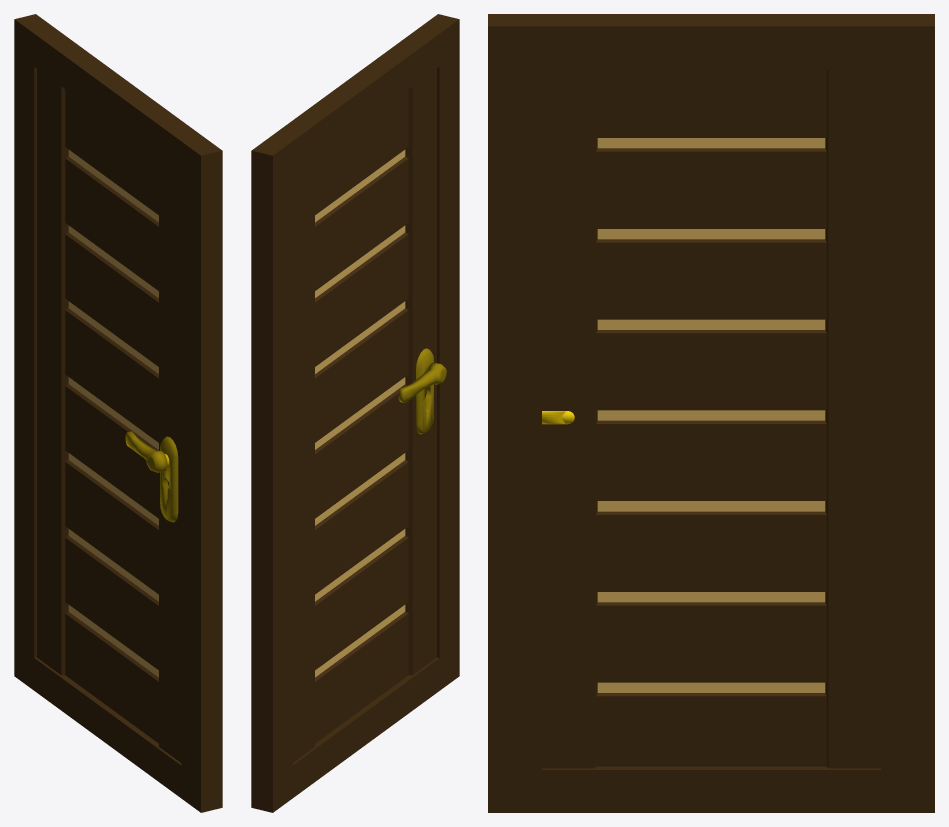
Rendered from Drzwi_v2.fbx.
3 views of the same model, side by side, from view 1: azimuth 30°, elevation 25°; view 2: azimuth 150°, elevation 25°; view 3: azimuth 270°, elevation 25° (orthographic). The views are drawn at different scales.
Parts seen in each view (by area): view 1: Framuga, Cube.001, Door, Cube.003, Sphere, Klamka; view 2: Framuga, Cube.001, Door, Cube.003, Sphere, Klamka; view 3: Cube.001, Framuga, Door, Cube.003.
Part boxes in pixels (bbox=[...]): Framuga: bbox=[14, 14, 222, 812]; Cube.001: bbox=[65, 89, 158, 743]; Door: bbox=[37, 69, 181, 762]; Cube.003: bbox=[68, 150, 158, 677]; Sphere: bbox=[160, 436, 178, 522]; Klamka: bbox=[125, 431, 169, 472]; Framuga: bbox=[251, 14, 459, 812]; Cube.001: bbox=[315, 89, 408, 743]; Door: bbox=[292, 69, 436, 762]; Cube.003: bbox=[315, 150, 405, 677]; Sphere: bbox=[416, 348, 433, 434]; Klamka: bbox=[398, 362, 446, 402]; Cube.001: bbox=[596, 69, 826, 766]; Framuga: bbox=[488, 14, 934, 812]; Door: bbox=[542, 69, 880, 768]; Cube.003: bbox=[597, 138, 825, 692].
Bounding box in the file's own units: 0.1378 × 2.22 × 1.14.
